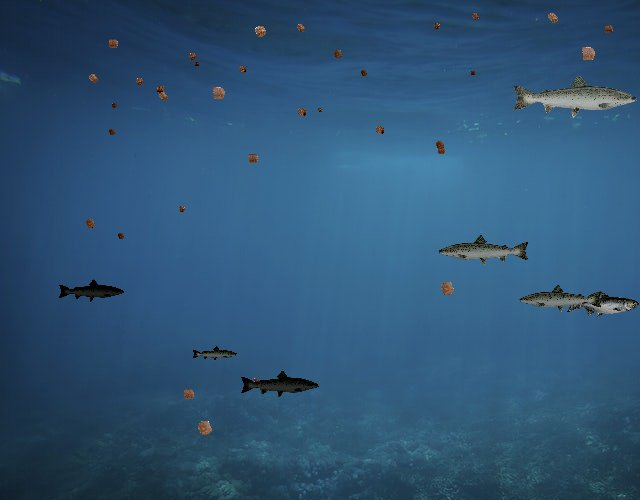Fish: (510, 73, 639, 119), (438, 234, 532, 267), (518, 283, 604, 314), (239, 370, 320, 399), (566, 292, 639, 318), (58, 279, 126, 303), (191, 346, 238, 363)
Pellet: (190, 412, 220, 442), (248, 19, 273, 44), (177, 383, 200, 406), (370, 121, 389, 140), (174, 202, 189, 217), (429, 19, 444, 33), (114, 229, 128, 243)
